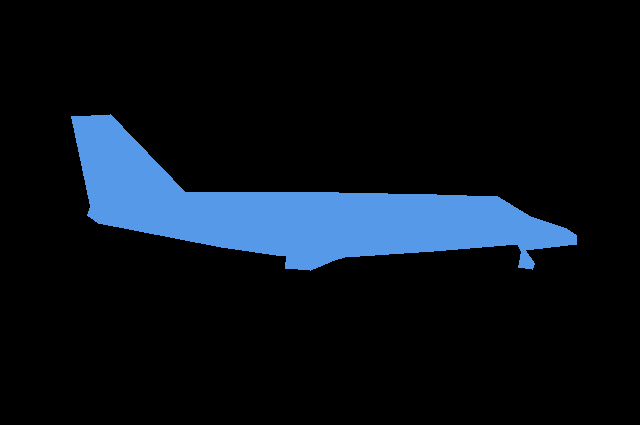Airplane: (71, 114, 576, 271)
